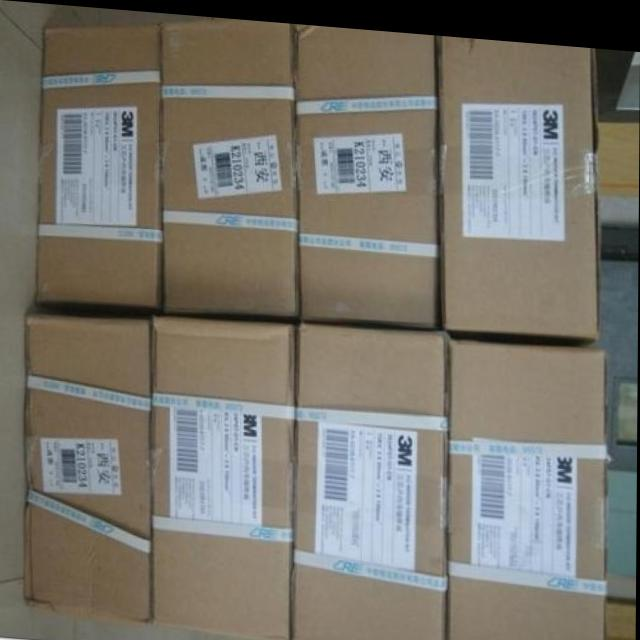box: (293, 317, 451, 640), (436, 29, 601, 332), (448, 331, 609, 640), (151, 313, 297, 640), (293, 20, 441, 322), (161, 14, 300, 310), (25, 313, 152, 623), (36, 22, 163, 306)
